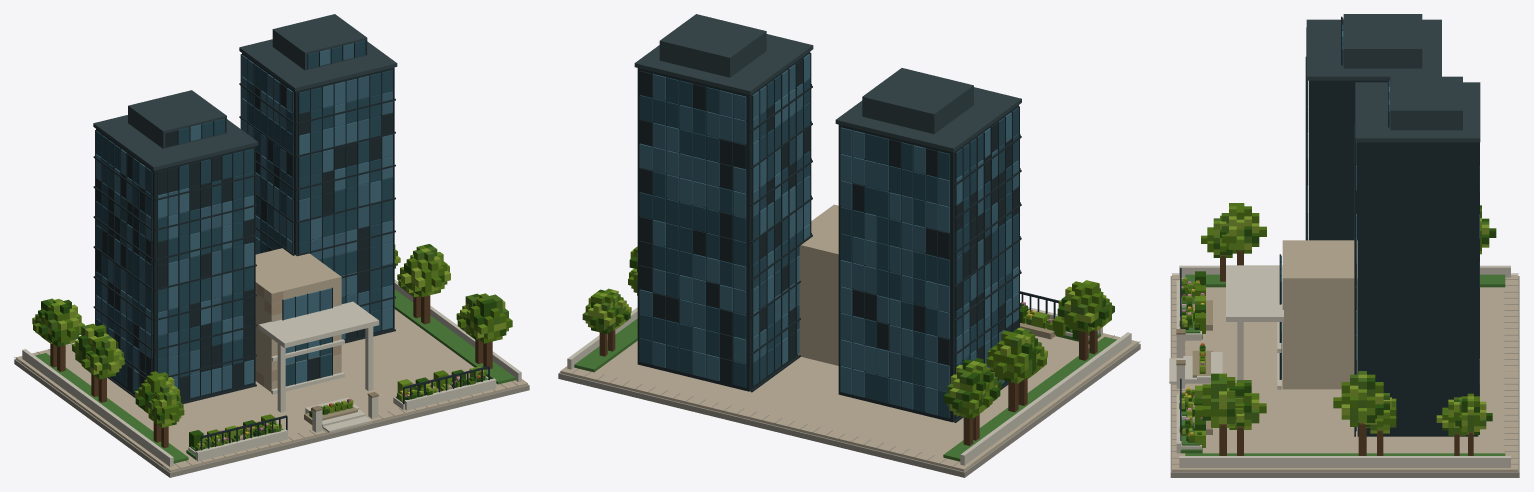
File: SM_Mapa_025.fbx
3 renders of one model, left to right at view 1: azimuth 30°, elevation 25°; view 2: azimuth 150°, elevation 25°; view 3: azimuth 270°, elevation 25°, orthographic. The views are drawn at different scales.
Parts seen in each view (by area): view 1: SM_Mapa_025; view 2: SM_Mapa_025; view 3: SM_Mapa_025.
Part boxes in pixels (left/top/right/bottom): SM_Mapa_025: left=14, top=14, right=529, bottom=477; SM_Mapa_025: left=558, top=14, right=1140, bottom=477; SM_Mapa_025: left=1169, top=14, right=1519, bottom=477.
Size of the model in its own units: 14 by 10.37 by 10.84.
